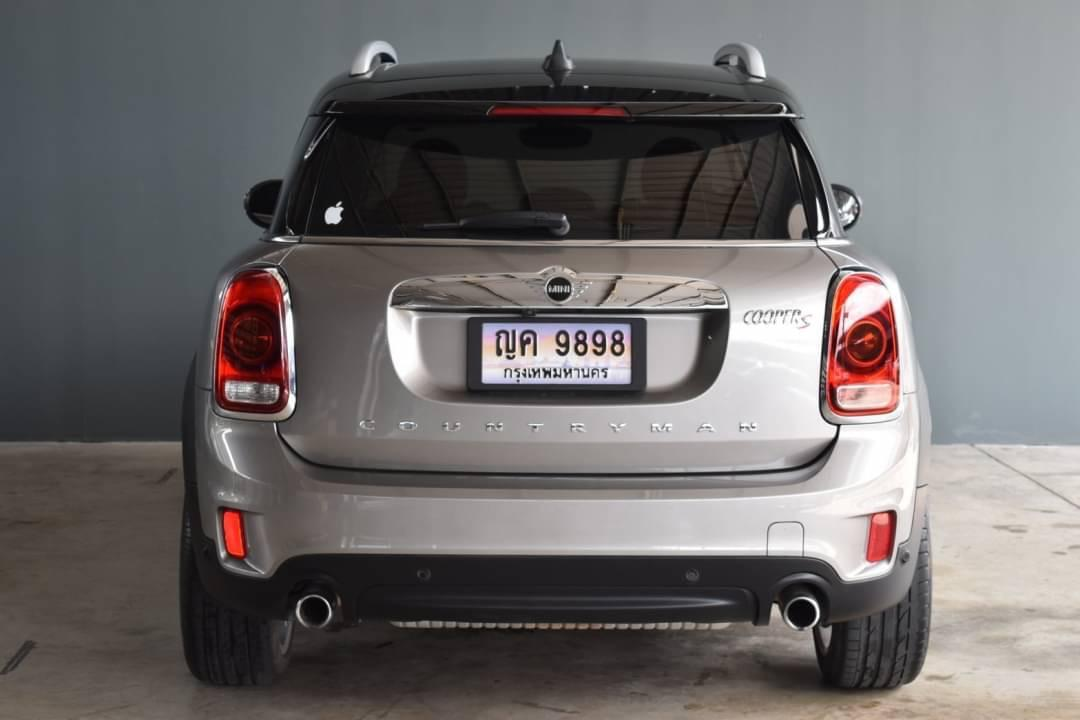license-plate: (471, 313, 640, 387)
